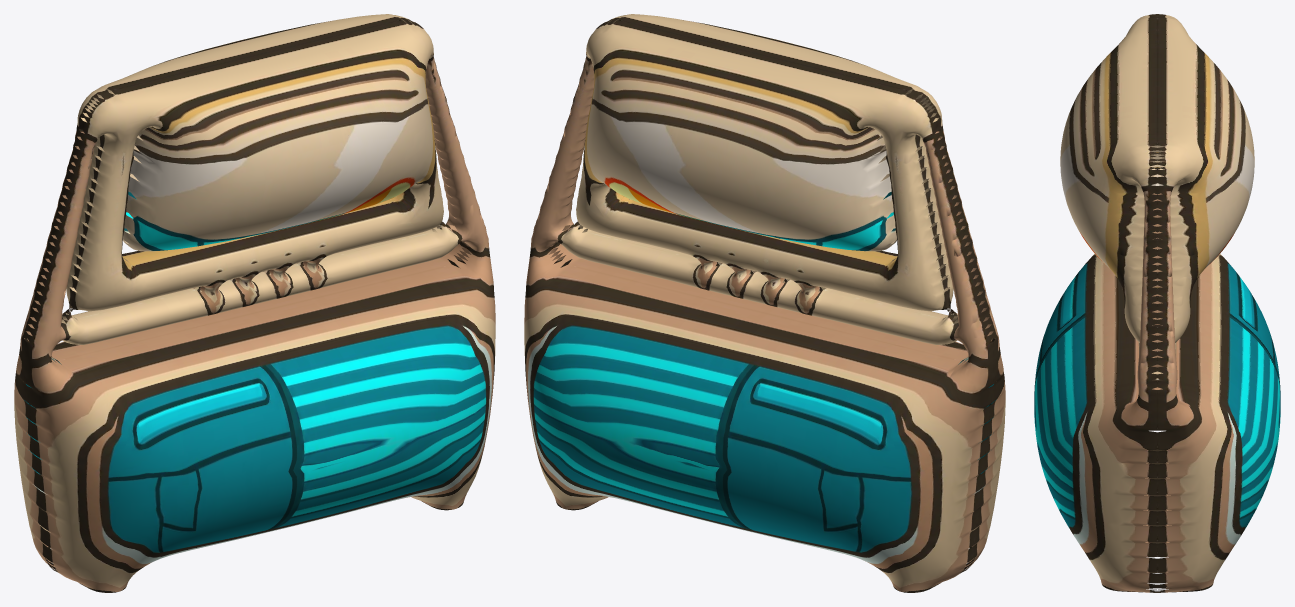
Rendered from right_console.glb.
3 renders of one model, left to right at view 1: azimuth 30°, elevation 25°; view 2: azimuth 150°, elevation 25°; view 3: azimuth 270°, elevation 25°, orthographic. The views are drawn at different scales.
Visible parts, largest first — view 1: right_console; view 2: right_console; view 3: right_console.
Boxes of the visible parts, bbox=[...] form: right_console: bbox=[14, 14, 495, 592]; right_console: bbox=[524, 14, 1005, 592]; right_console: bbox=[1034, 14, 1280, 592].
Bounding box in the file's own units: 0.9891 × 0.9763 × 0.5087.
1 material, 1 textured.
